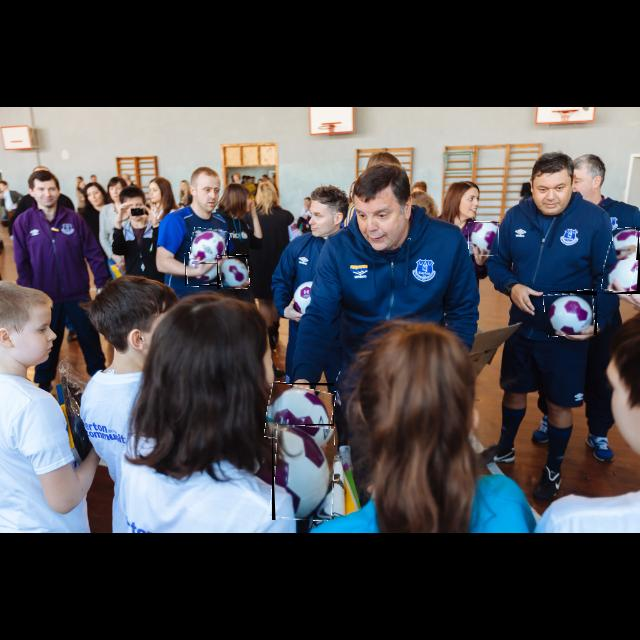Football: (272, 424, 334, 520), (266, 383, 334, 445), (545, 291, 597, 335), (603, 243, 640, 294), (191, 228, 229, 264), (185, 252, 221, 286), (217, 255, 249, 289), (469, 222, 499, 256), (613, 228, 639, 260)
